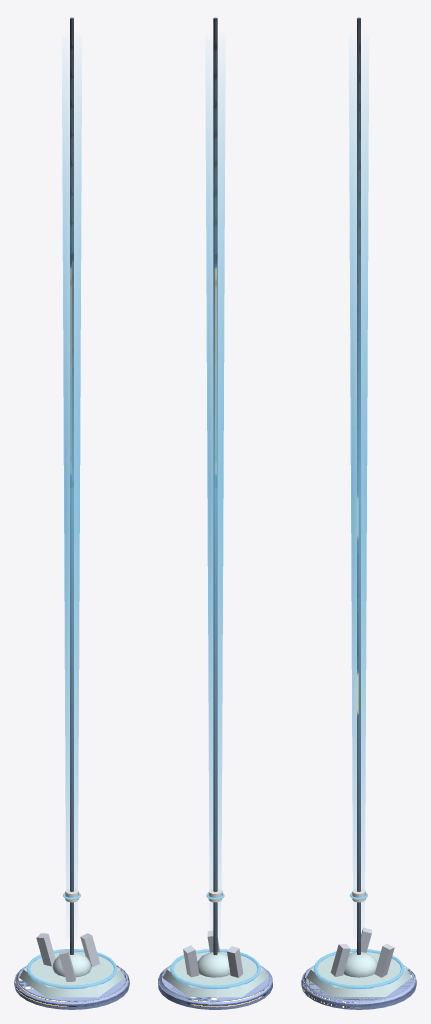
The model's file is tier-18-space-elevator.glb.
3 views of the same model, side by side, from view 1: azimuth 90°, elevation 25°; view 2: azimuth 150°, elevation 25°; view 3: azimuth 270°, elevation 25° (orthographic).
Parts seen in each view (by area): view 1: beam, toon, gloss, glow; view 2: beam, toon, gloss, glow; view 3: beam, toon, gloss, glow.
Boxes of the visible parts, left/top/right/bottom form: beam: left=62, top=65, right=81, bottom=909; toon: left=14, top=17, right=129, bottom=1009; gloss: left=19, top=933, right=124, bottom=997; glow: left=26, top=949, right=117, bottom=989; beam: left=206, top=65, right=224, bottom=909; toon: left=158, top=17, right=272, bottom=1009; gloss: left=162, top=930, right=268, bottom=997; glow: left=170, top=949, right=260, bottom=989; beam: left=349, top=65, right=368, bottom=909; toon: left=301, top=17, right=416, bottom=1009; gloss: left=306, top=927, right=411, bottom=997; glow: left=313, top=949, right=404, bottom=989.
Size of the model in its own units: 1 by 9.27 by 1.
Materials: 4 (2 with a texture image).
